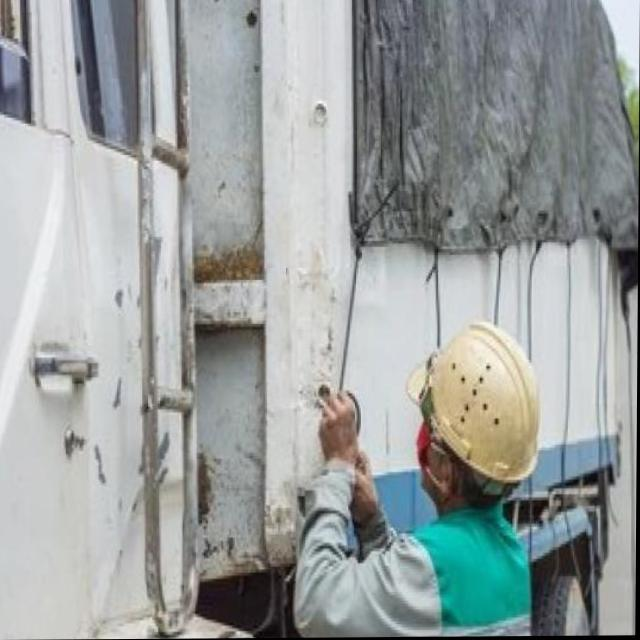covered: (318, 0, 638, 312)
